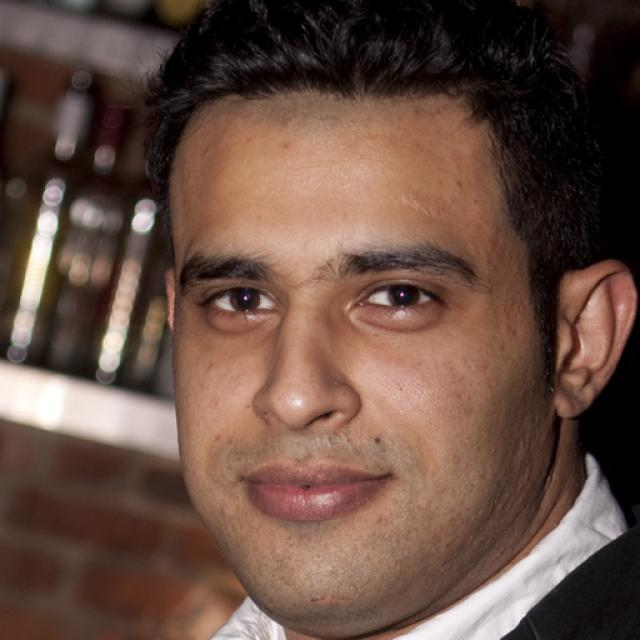Dark Circle: (346, 309, 444, 335), (201, 308, 277, 337)
